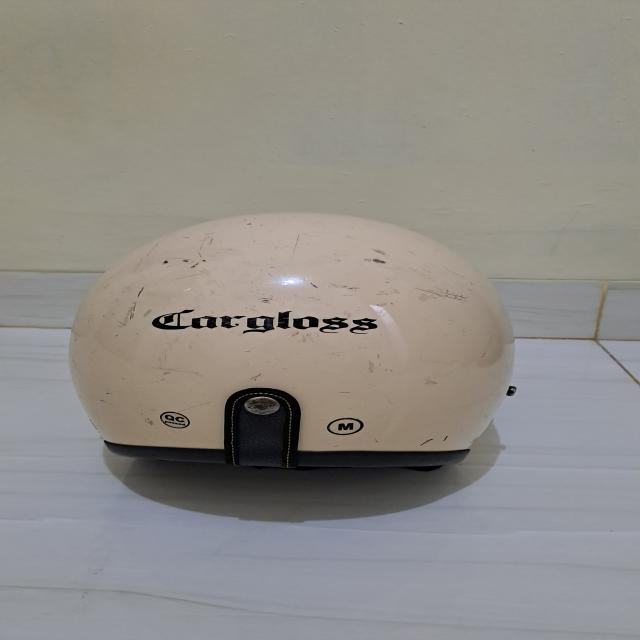Helm: (49, 204, 525, 479)
